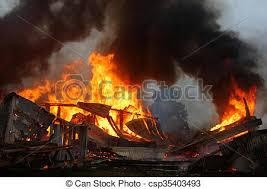fire: (14, 49, 155, 145), (210, 78, 257, 132)
